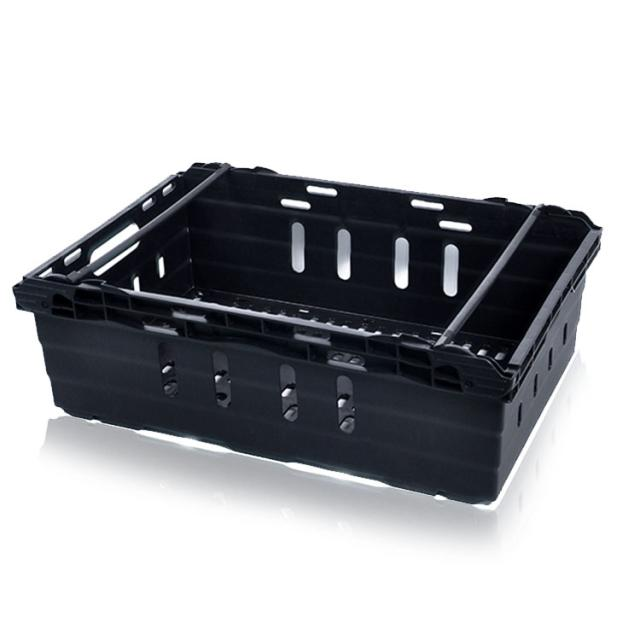basket: (0, 137, 606, 516)
